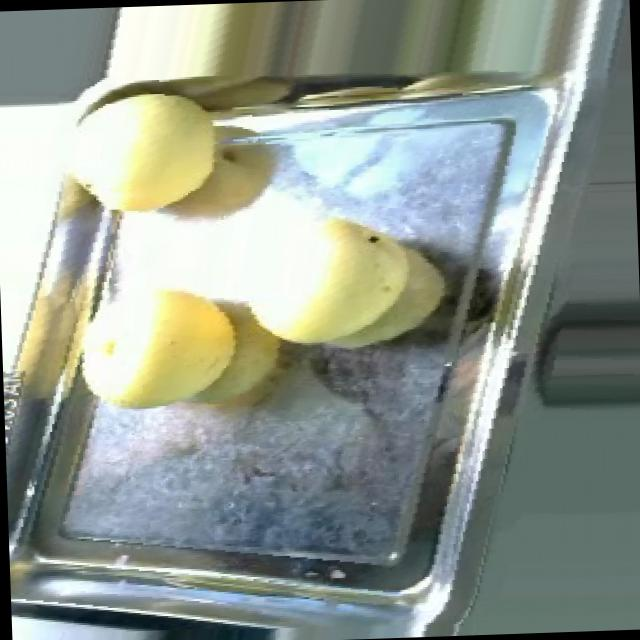Fruit: (248, 189, 462, 376), (48, 76, 262, 239), (78, 262, 255, 434)
